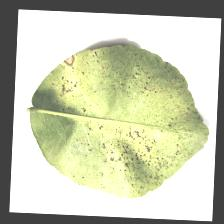canker: (68, 88, 168, 184)
